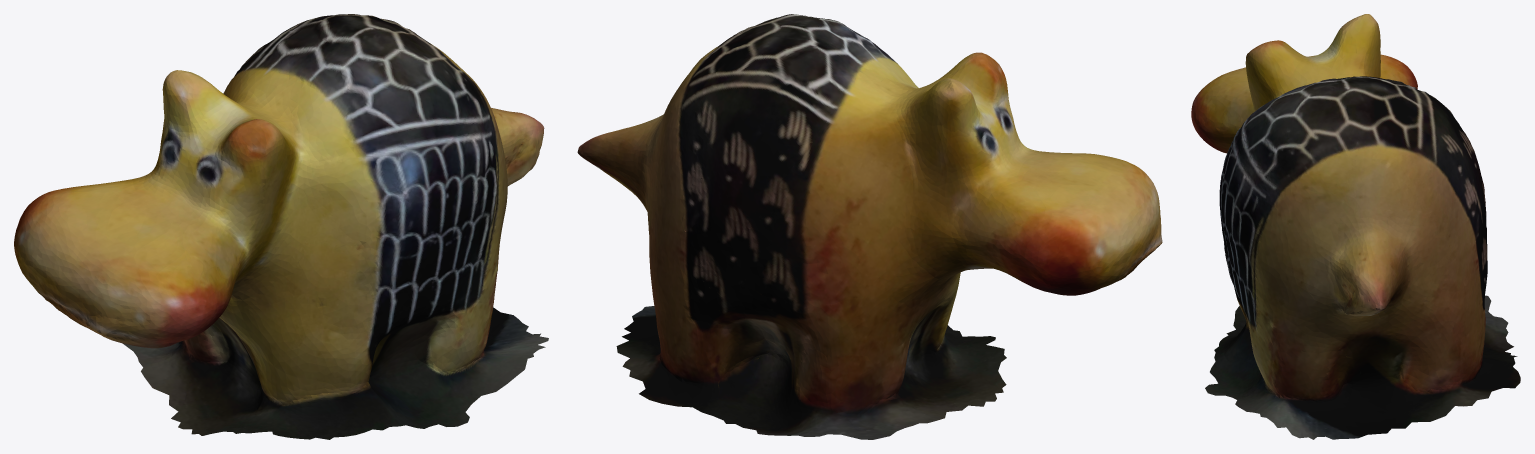
File: giraffe.glb
3 views of the same model, side by side, from view 1: azimuth 30°, elevation 25°; view 2: azimuth 150°, elevation 25°; view 3: azimuth 270°, elevation 25° (orthographic). The views are drawn at different scales.
Visible parts, largest first — view 1: Mesh_0; view 2: Mesh_0; view 3: Mesh_0.
Boxes of the visible parts, x1,y1,x2,y2 form: Mesh_0: (14,14,548,439); Mesh_0: (577,14,1162,439); Mesh_0: (1191,14,1520,439).
Size of the model in its own units: 0.3993 by 0.2446 by 0.2434.
Materials: 1 (1 with a texture image).
